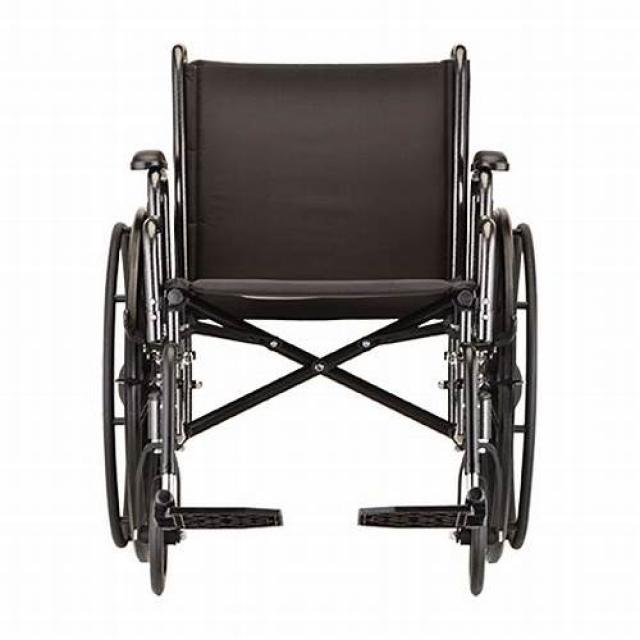wheelchairs: (102, 42, 542, 594)
